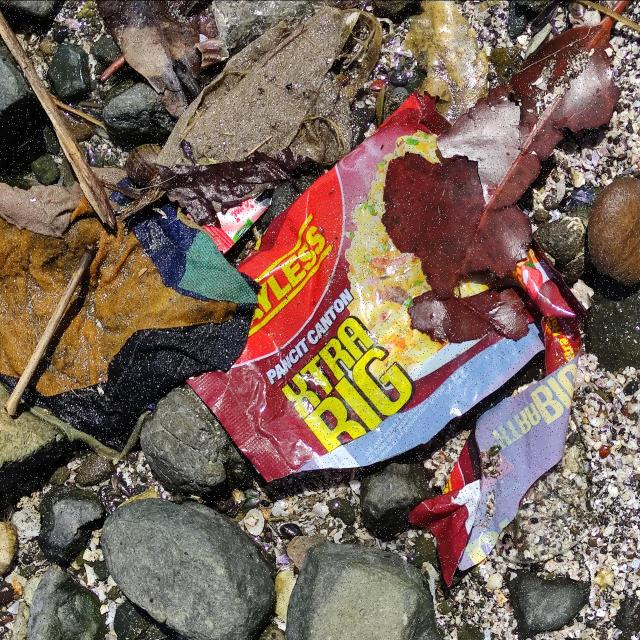plastic_waste: (187, 93, 583, 588)
